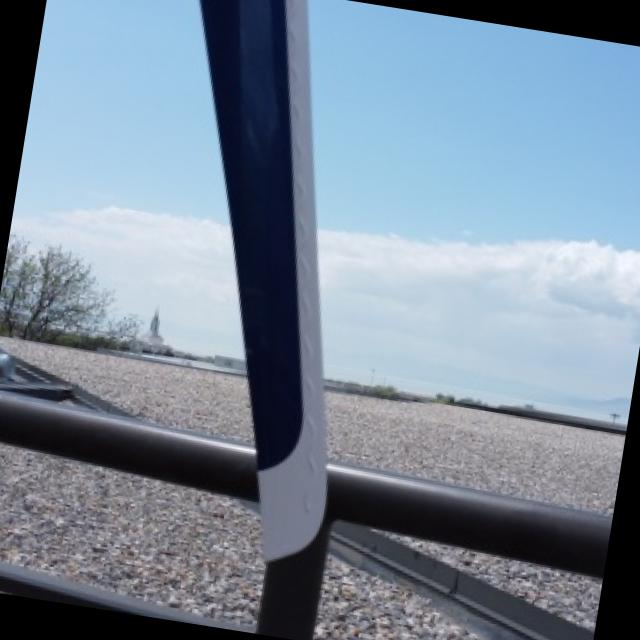healthy: (256, 522, 325, 640)
